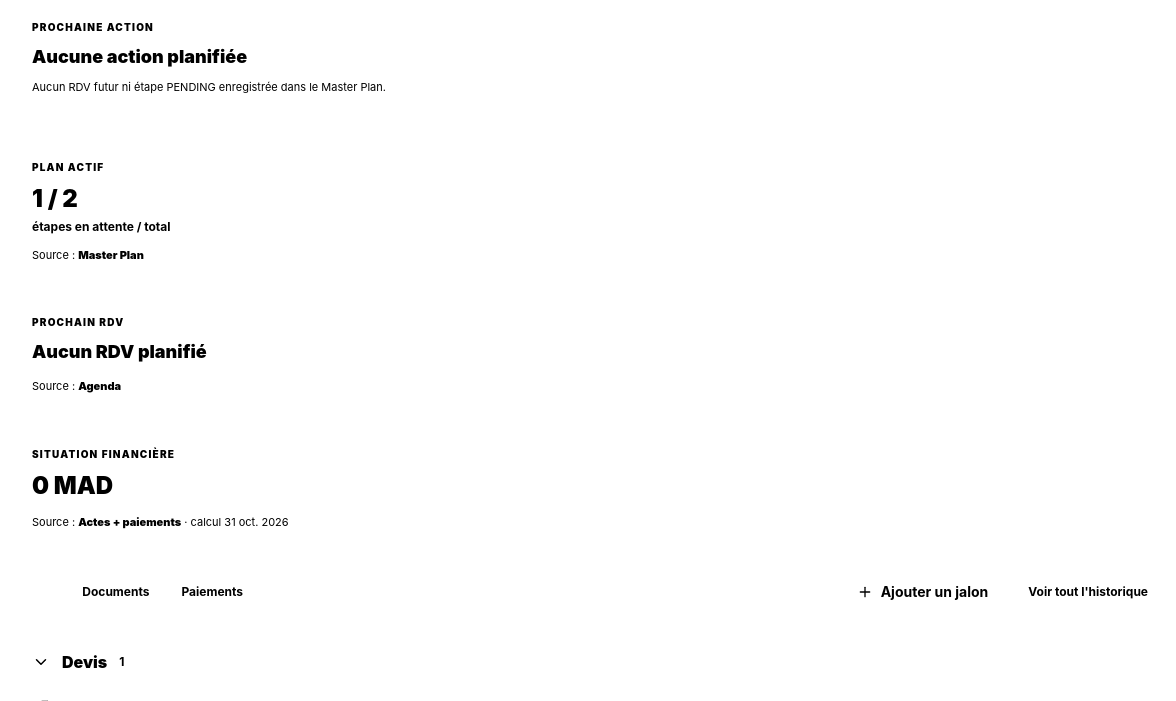
PatientJourney › filters events by source when a chip is clicked
Click the button "Paiements".
click(212, 592)  # box 170,578 -> 255,606
(page scrolled)
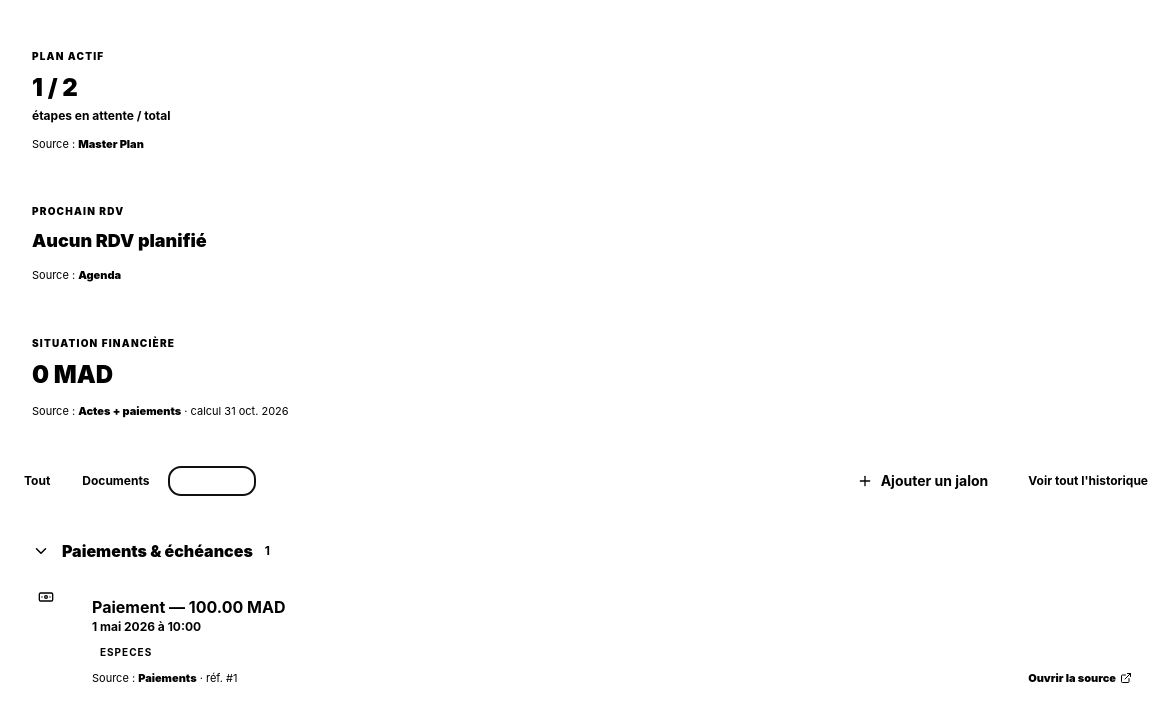
Expected: the text "Paiement — 100.00 MAD" is shown, 92,597 -> 286,617
